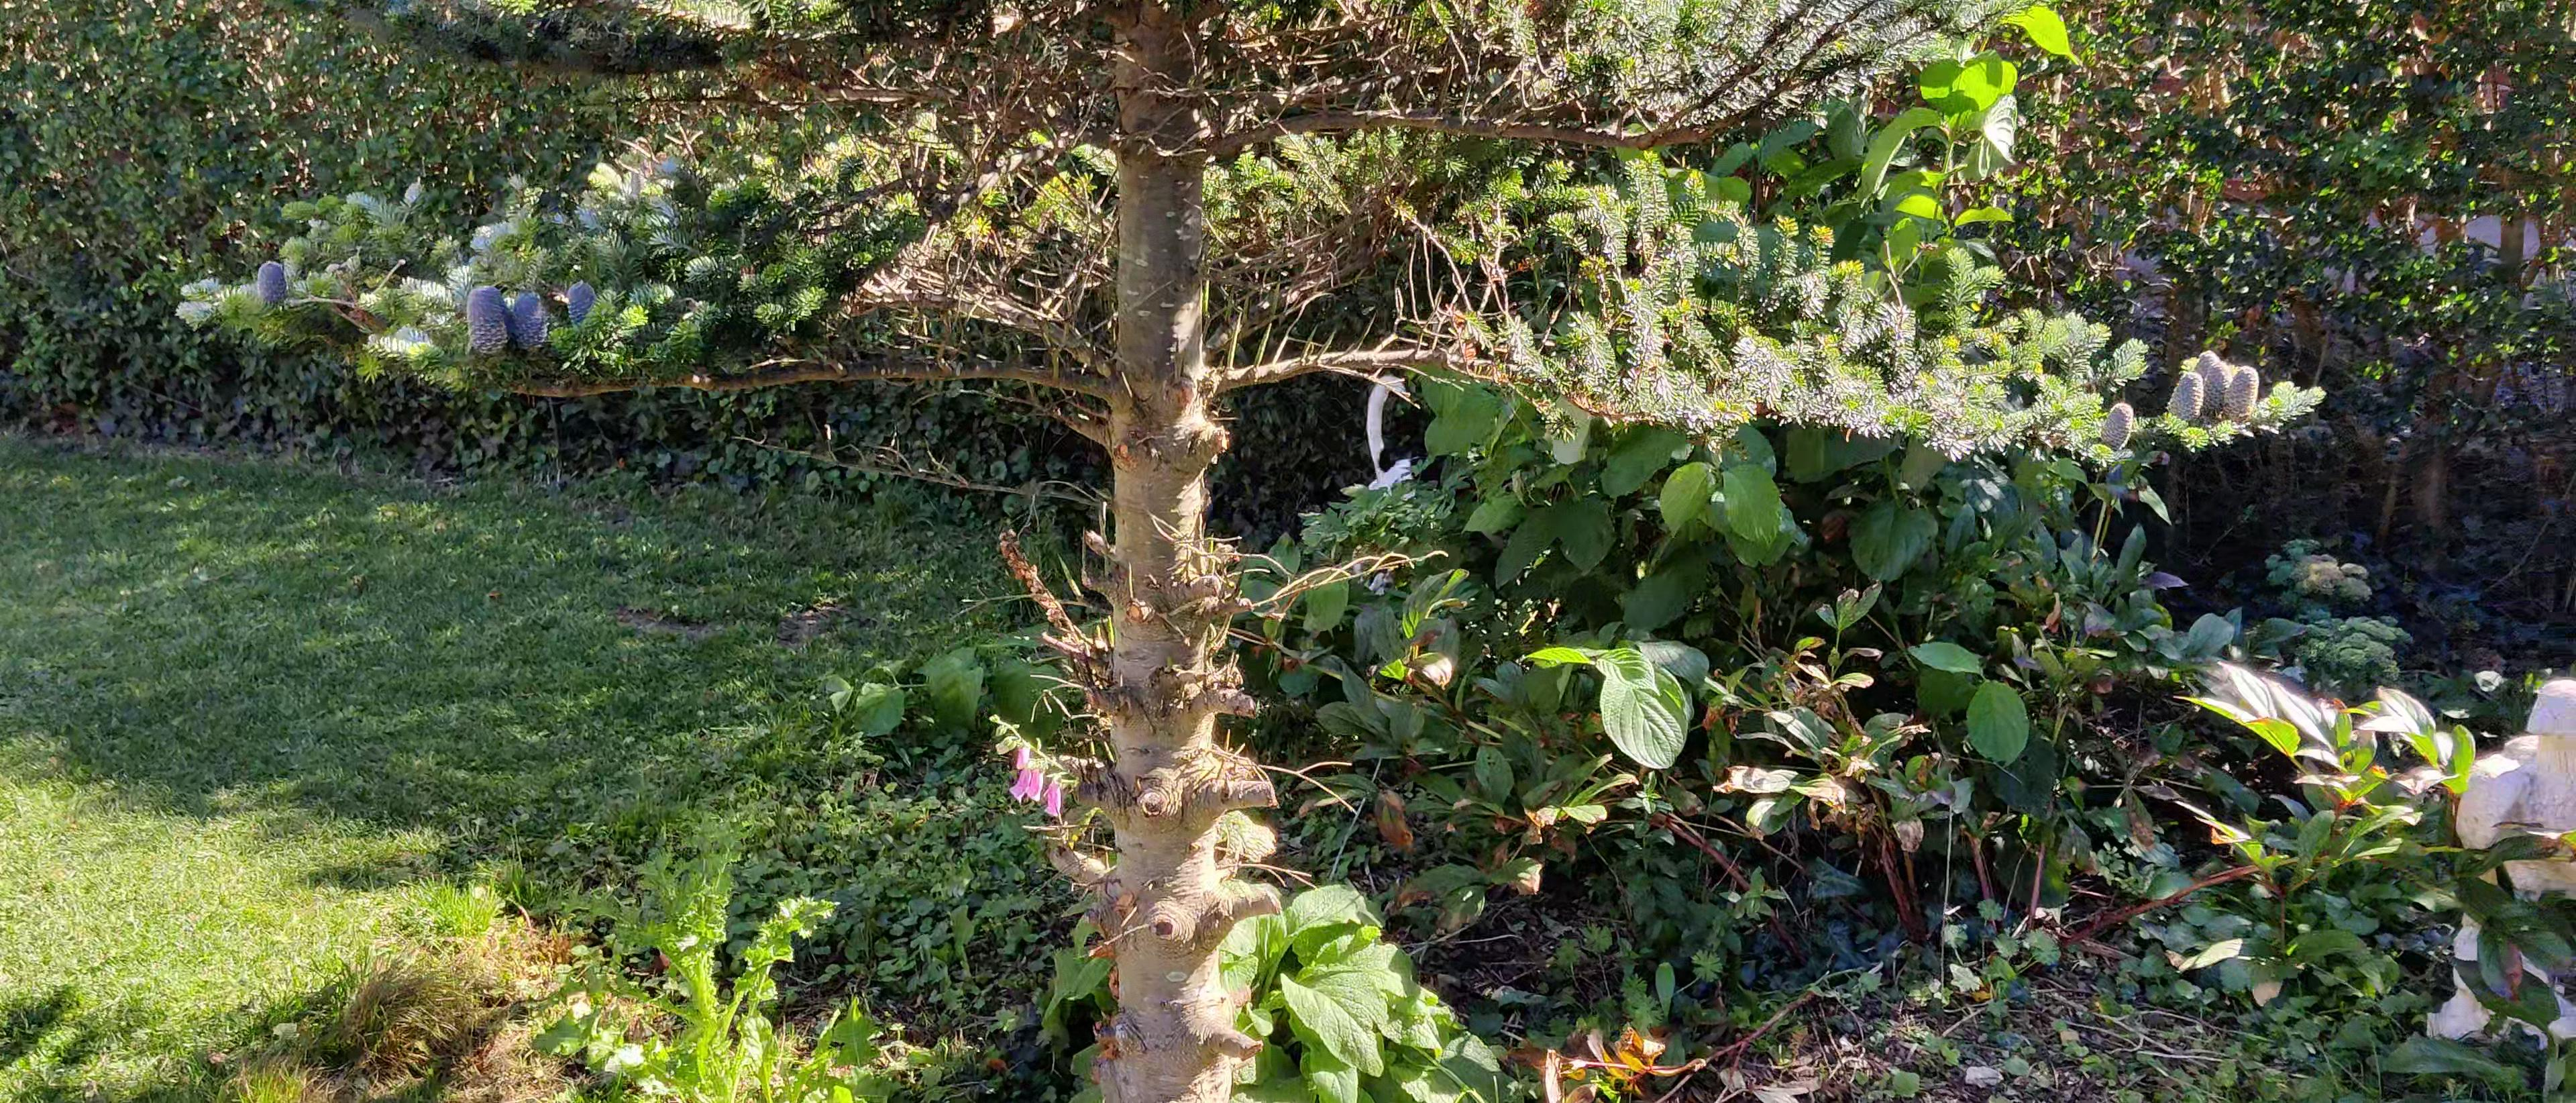Dog: (1357, 373, 1437, 485)
